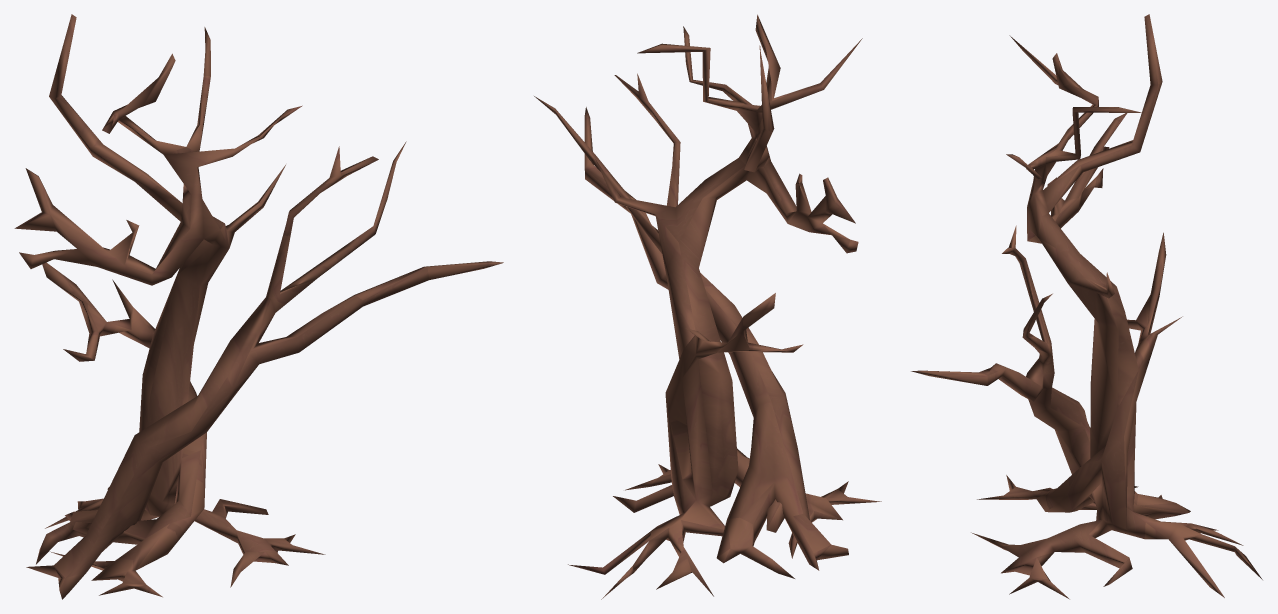
File: Tree1_Collider.fbx
3 views of the same model, side by side, from view 1: azimuth 30°, elevation 25°; view 2: azimuth 150°, elevation 25°; view 3: azimuth 270°, elevation 25° (orthographic). The views are drawn at different scales.
Visible parts, largest first — view 1: Tree1_Collider; view 2: Tree1_Collider; view 3: Tree1_Collider.
Boxes of the visible parts, x1,y1,x2,y2 form: Tree1_Collider: [14, 14, 503, 599]; Tree1_Collider: [534, 14, 881, 599]; Tree1_Collider: [911, 14, 1262, 599].
Size of the model in its own units: 294 by 403 by 248.
Materials: 1 (1 with a texture image).
